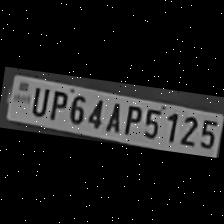1: (159, 107, 180, 143)
2: (175, 110, 200, 146)
4: (84, 94, 106, 129)
5: (138, 102, 164, 140), (195, 113, 220, 150)
6: (65, 90, 88, 124)
A: (103, 97, 125, 132)
P: (120, 100, 143, 136), (46, 86, 69, 121)
U: (27, 82, 50, 116)
